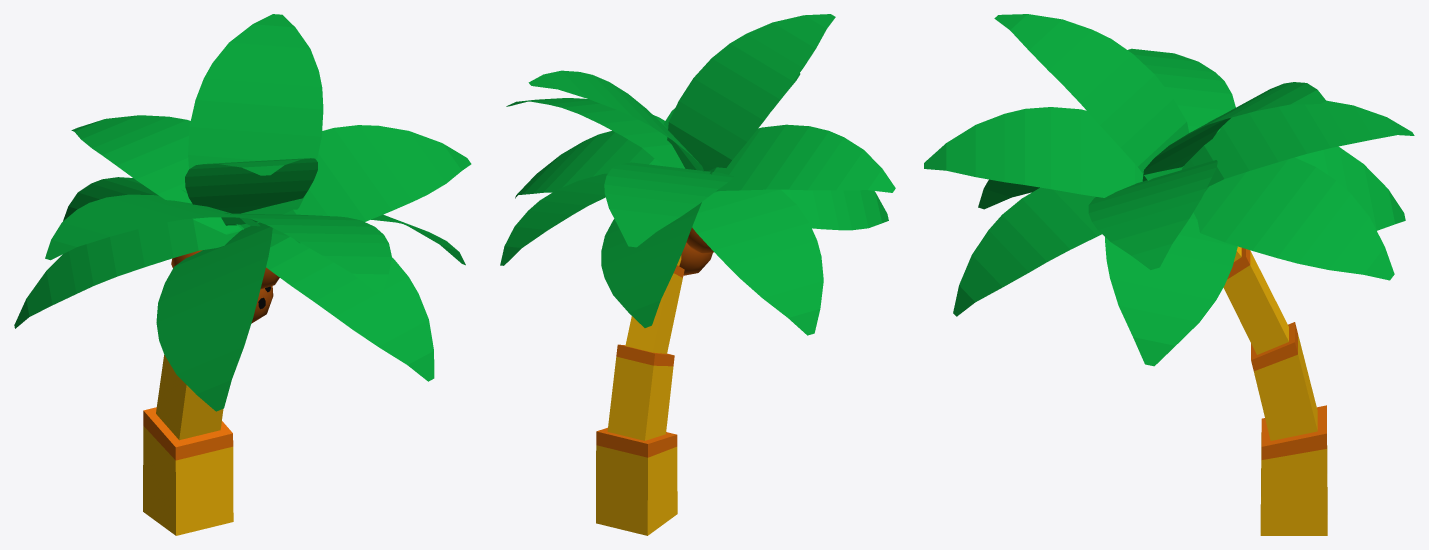
File: island_asset_2.fbx
The picture shows the model from 3 angles, left to right: view 1: azimuth 30°, elevation 25°; view 2: azimuth 150°, elevation 25°; view 3: azimuth 270°, elevation 25°; orthographic projection. The views are drawn at different scales.
Parts seen in each view (by area): view 1: palmtree, coconut; view 2: palmtree, coconut; view 3: palmtree.
Boxes of the visible parts, box(x1,y1,x2,y2) form: palmtree: box(14, 14, 471, 535); coconut: box(171, 250, 279, 323); palmtree: box(500, 14, 895, 535); coconut: box(679, 227, 713, 275); palmtree: box(924, 14, 1414, 535).
Bounding box in the file's own units: 1483 × 1553 × 1468.
